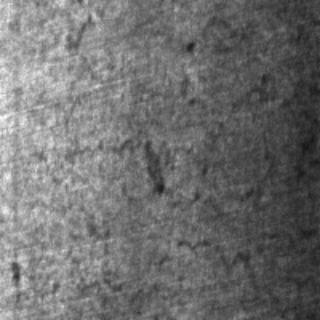crazing: (46, 68, 318, 208), (174, 213, 318, 317)
